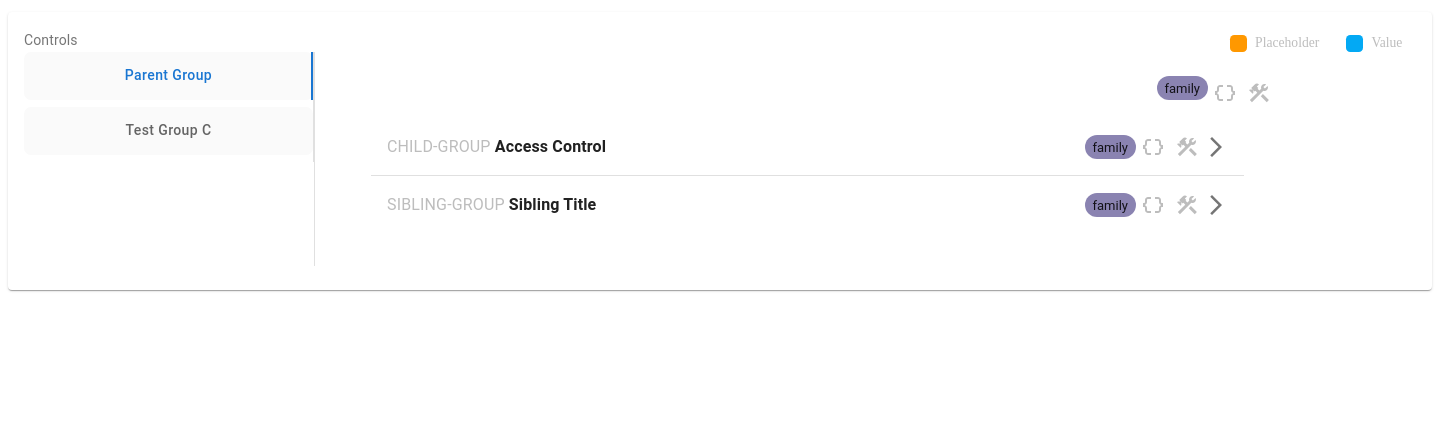
Test: OSCALCatalogGroup › displays child group prose
This screenshot has width=1440, height=431.
What coordinates should you click on to do the following:
click the text "Sibling Title"
I would click on:
 (492, 205)
Its box is [387,193,596,217].
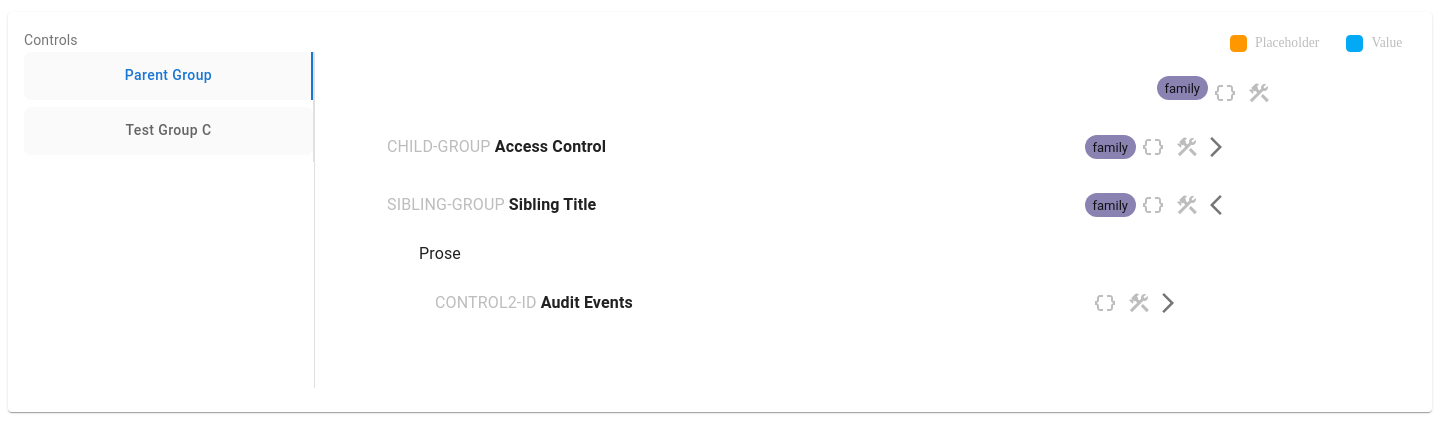
Now the text "Prose" is shown, box [419,244,461,263]
